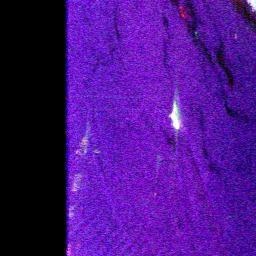Ship: (166, 101, 183, 132)
